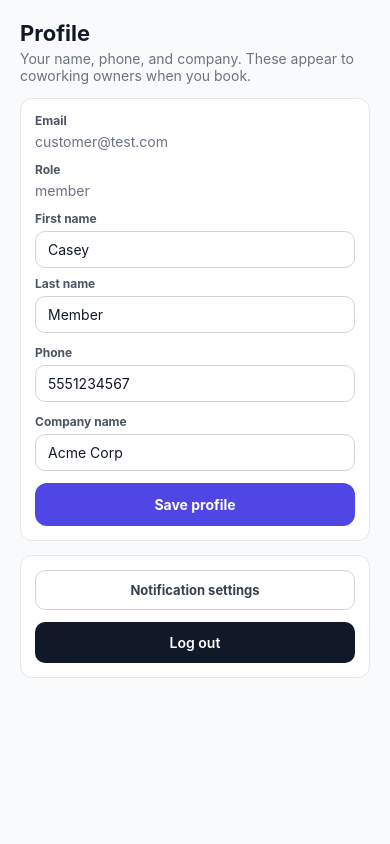
Test: ProfileScreen › saves edited fields via PATCH /api/me
The width and height of the screenshot is (390, 844).
Replace the text in the field named "First name" with "Jordan". click: [195, 250]
box: [35, 231, 355, 268]
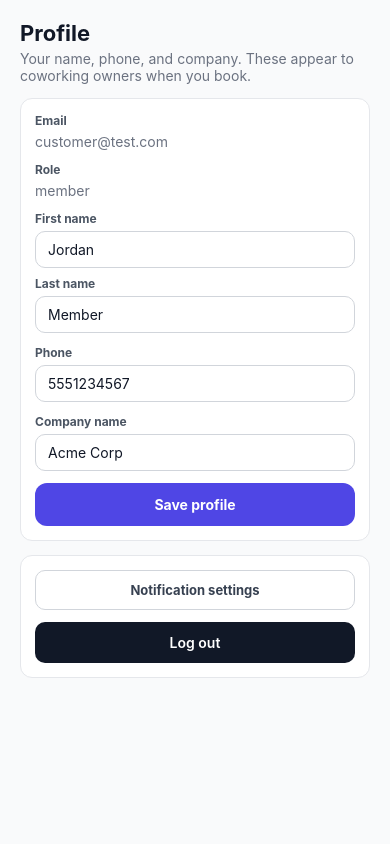
Replace the text in the field named "Company name" with "New Co". click: [195, 452]
box: [35, 434, 355, 471]
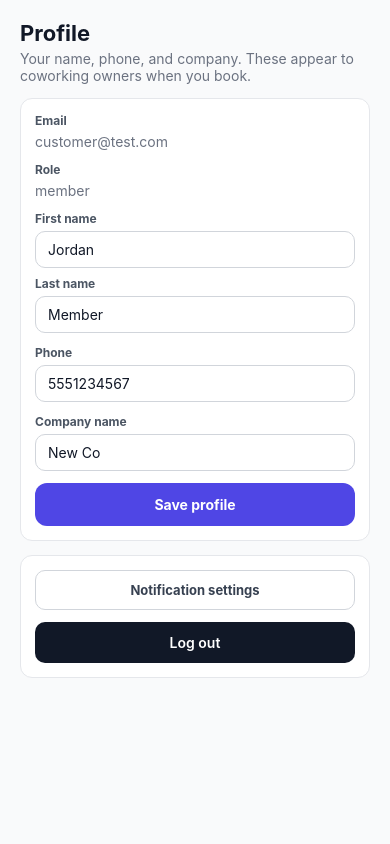
Click the button labelled "Save profile". click: [195, 504]
box: [35, 483, 355, 526]
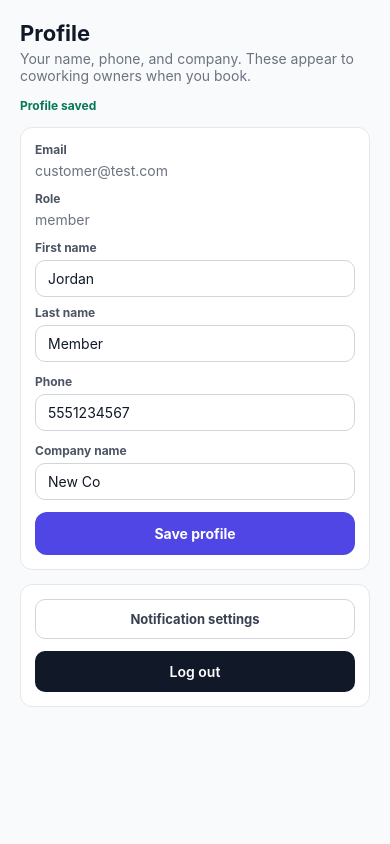
Expected: the text "Profile saved" is shown, [20, 98, 96, 113]
